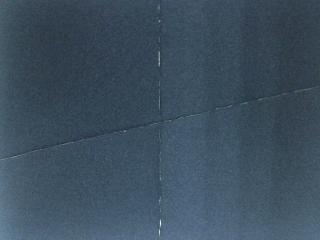crack: (0, 77, 319, 167), (149, 0, 172, 240)
